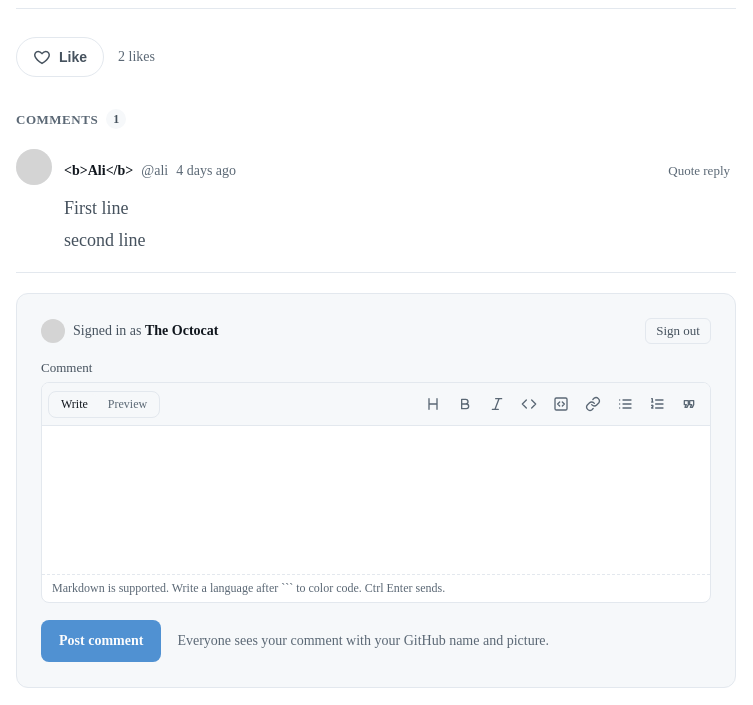
Test: PostReactions › puts the like back when the request fails
Click the button "Like" at (60, 57), box 16,37 -> 104,77
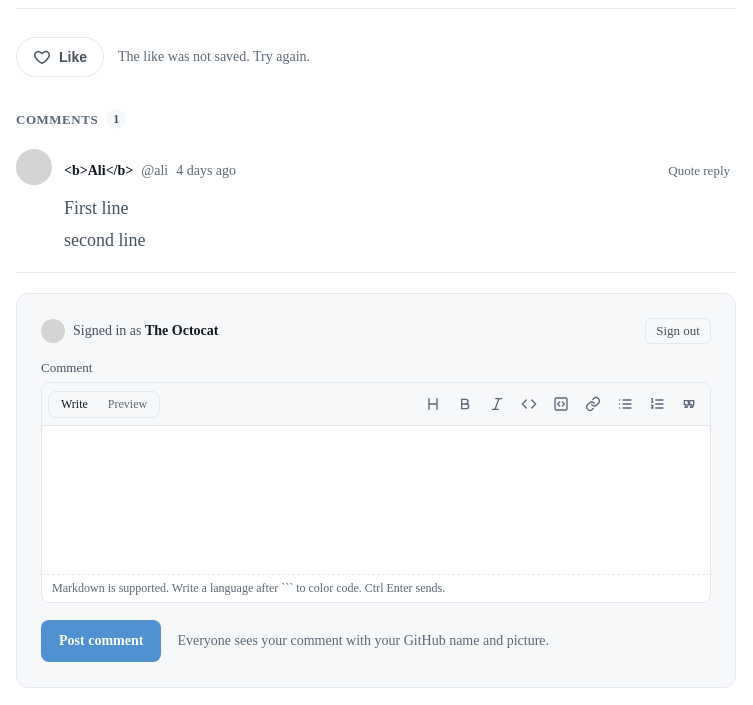
Result: the text "The like was not saved. Try again." is shown at 118,49 -> 310,65
